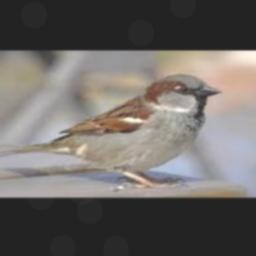Sparrow: (0, 73, 223, 188)
